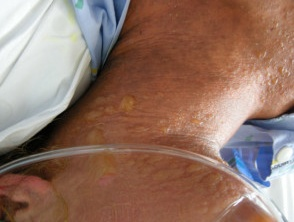SJS-TEN: (14, 70, 257, 222)
